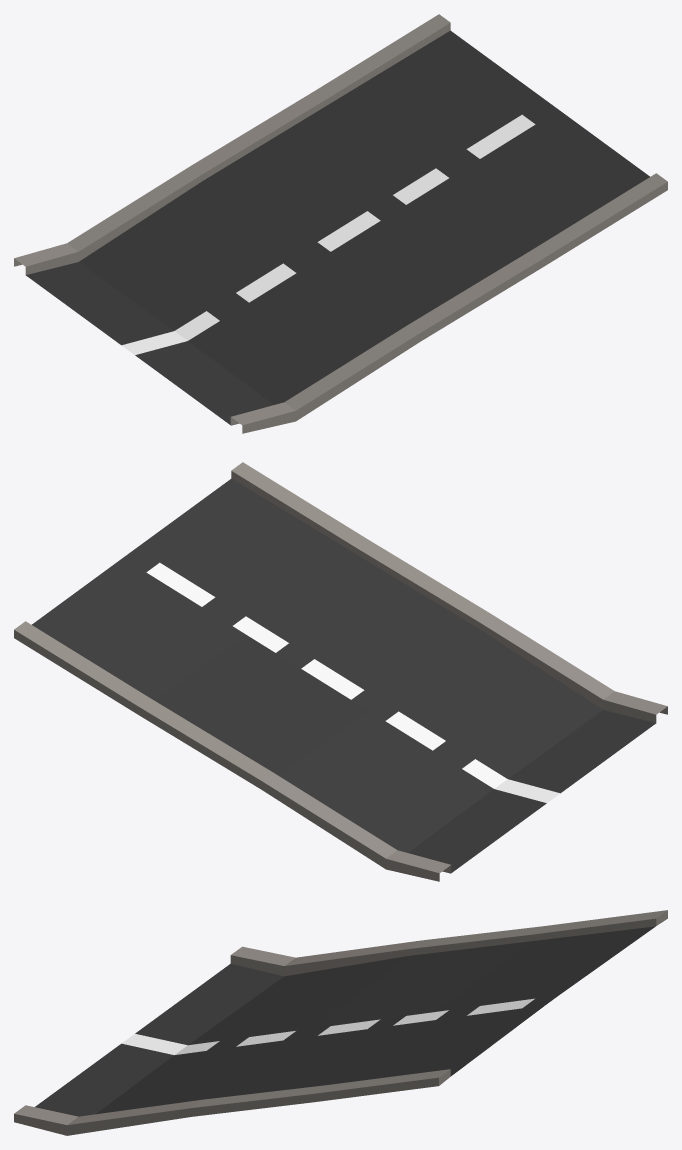
The model's file is Road Tile_7.fbx.
The picture shows the model from 3 angles, top to bottom: view 1: azimuth 30°, elevation 25°; view 2: azimuth 150°, elevation 25°; view 3: azimuth 330°, elevation 25°; orthographic projection.
Visible parts, largest first — view 1: Road Tile_7; view 2: Road Tile_7; view 3: Road Tile_7.
Boxes of the visible parts, x1,y1,x2,y2 form: Road Tile_7: [14, 14, 667, 433]; Road Tile_7: [14, 462, 667, 881]; Road Tile_7: [14, 910, 667, 1135].
Size of the model in its own units: 860 by 288 by 801.
